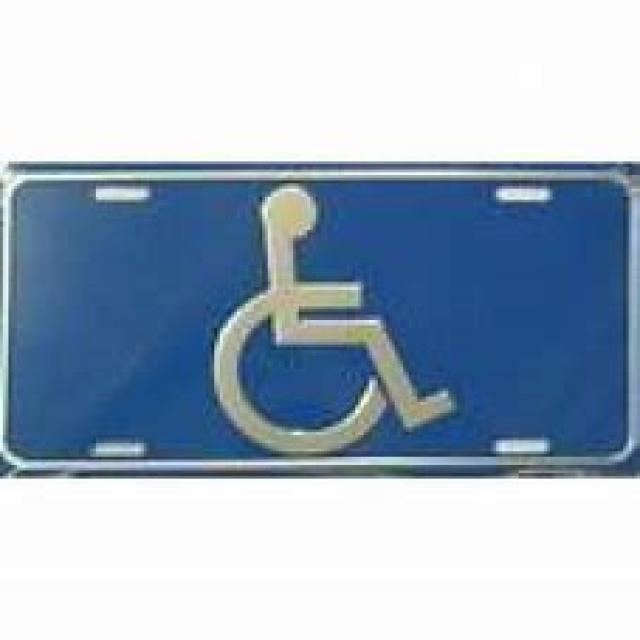car-handicap-placard: (214, 185, 457, 452)
